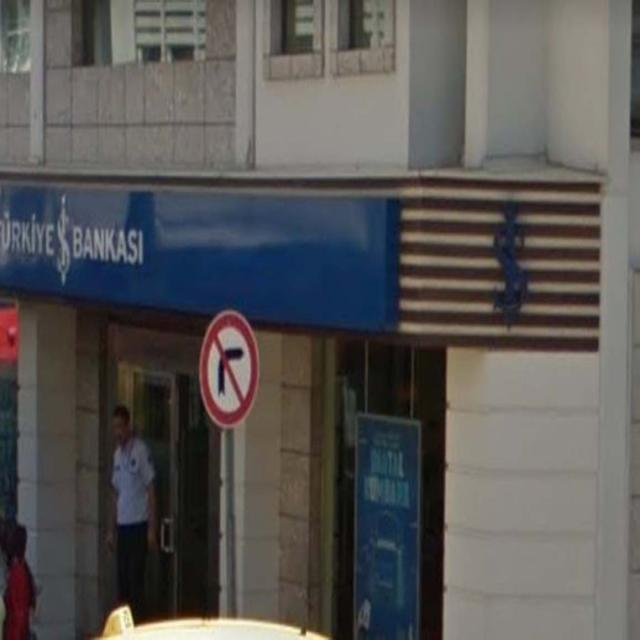sagadonulmez: (198, 312, 260, 429)
